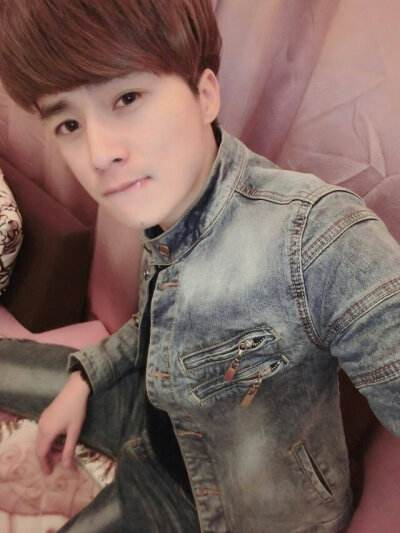person: (22, 12, 308, 469)
